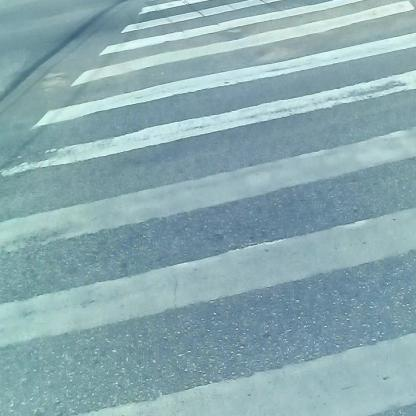crosswalk: (27, 8, 412, 416)
